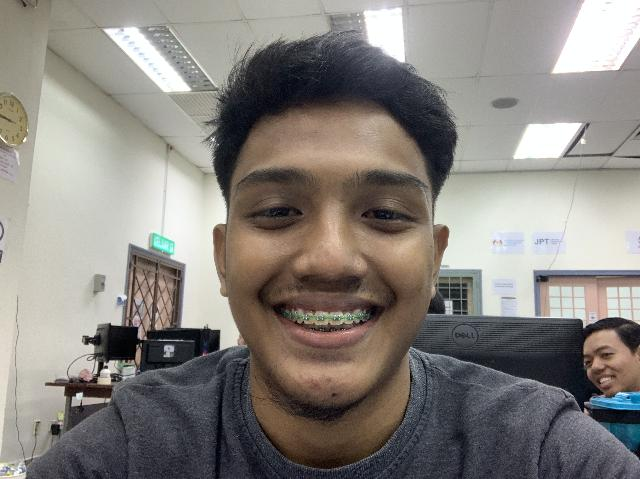senang: (223, 46, 440, 417)
